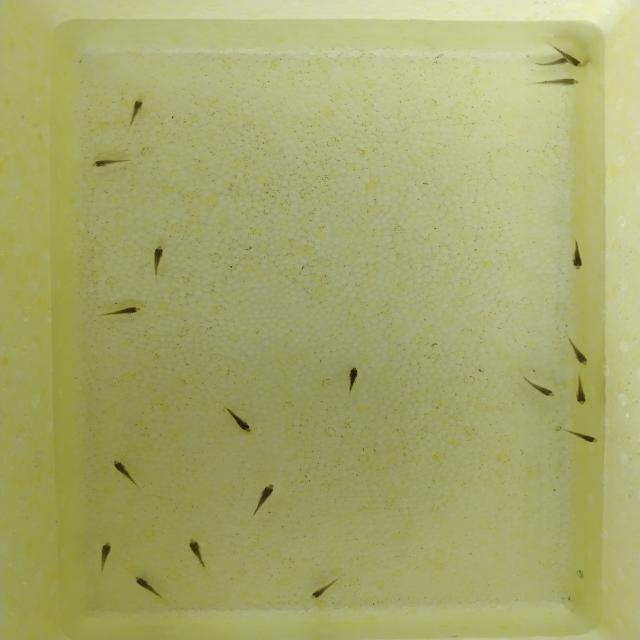fingerling: (524, 378, 563, 402), (108, 302, 152, 321), (124, 93, 152, 121), (342, 362, 368, 392), (91, 537, 117, 566), (227, 411, 257, 435), (108, 455, 134, 482), (146, 240, 170, 268), (256, 476, 278, 506), (133, 574, 161, 596), (570, 343, 596, 366), (183, 533, 206, 559), (568, 240, 586, 273), (572, 381, 592, 410), (307, 584, 336, 604), (553, 74, 584, 91), (574, 429, 602, 446), (88, 157, 124, 168), (564, 53, 587, 69), (536, 58, 564, 67)
